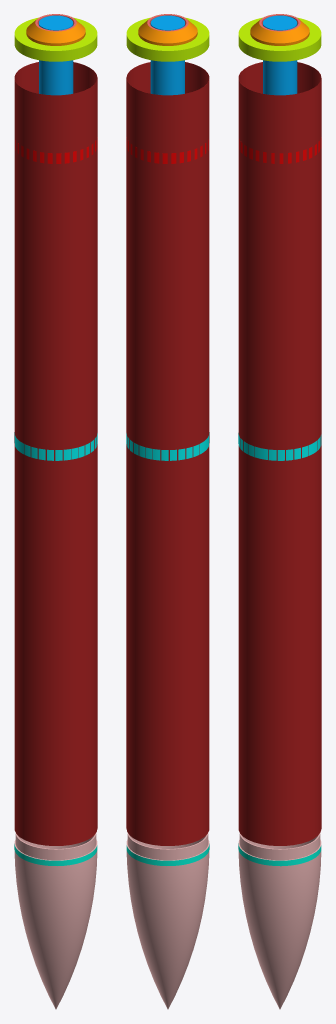
Rendered from Soporte_de_Motor_Inferior_Completo.glb.
3 views of the same model, side by side, from view 1: azimuth 30°, elevation 25°; view 2: azimuth 150°, elevation 25°; view 3: azimuth 330°, elevation 25° (orthographic).
Visible parts, largest first — view 1: Sólido1 (×8); view 2: Sólido1 (×8); view 3: Sólido1 (×8).
Boxes of the visible parts, <box> form: Sólido1 (×8): <box>14,14,97,1009</box>; Sólido1 (×8): <box>126,14,209,1009</box>; Sólido1 (×8): <box>238,14,321,1009</box>.
Bounding box in the file's own units: 0.07 × 0.9177 × 0.07.
